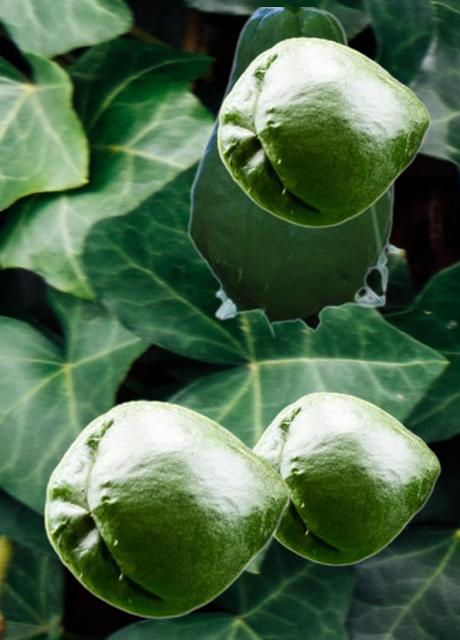sayote: (187, 7, 400, 337), (43, 399, 289, 618), (216, 36, 430, 227), (252, 391, 440, 565)
